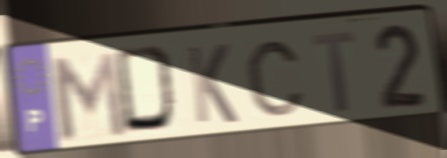2: (373, 20, 431, 113)
C: (244, 38, 307, 120)
D: (113, 42, 184, 137)
K: (184, 41, 240, 127)
M: (45, 48, 129, 144)
T: (309, 28, 358, 116)
